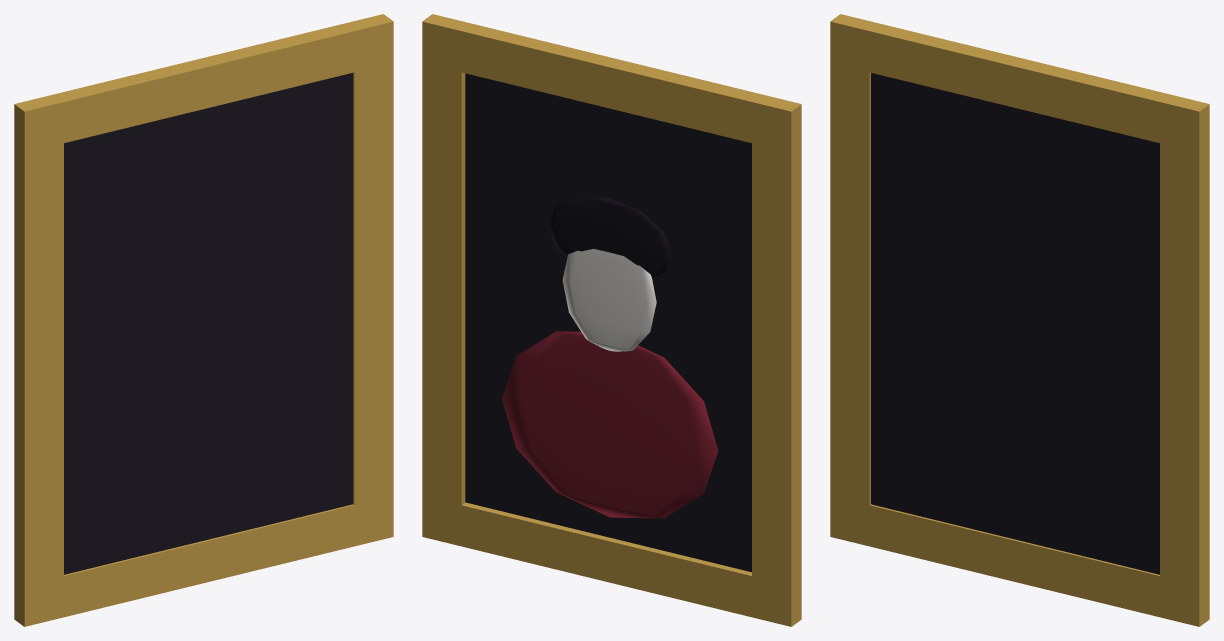
Rendered from SM_PRP_RetratoG.fbx.
3 views of the same model, side by side, from view 1: azimuth 30°, elevation 25°; view 2: azimuth 150°, elevation 25°; view 3: azimuth 330°, elevation 25° (orthographic).
Visible parts, largest first — view 1: SM_PRP_RetratoG; view 2: SM_PRP_RetratoG; view 3: SM_PRP_RetratoG.
Part boxes in pixels (x1,y1,x2,y2): SM_PRP_RetratoG: [14, 14, 393, 626]; SM_PRP_RetratoG: [422, 14, 801, 626]; SM_PRP_RetratoG: [830, 14, 1209, 626].
Bounding box in the file's own units: 0.825 × 1.1 × 0.04.
